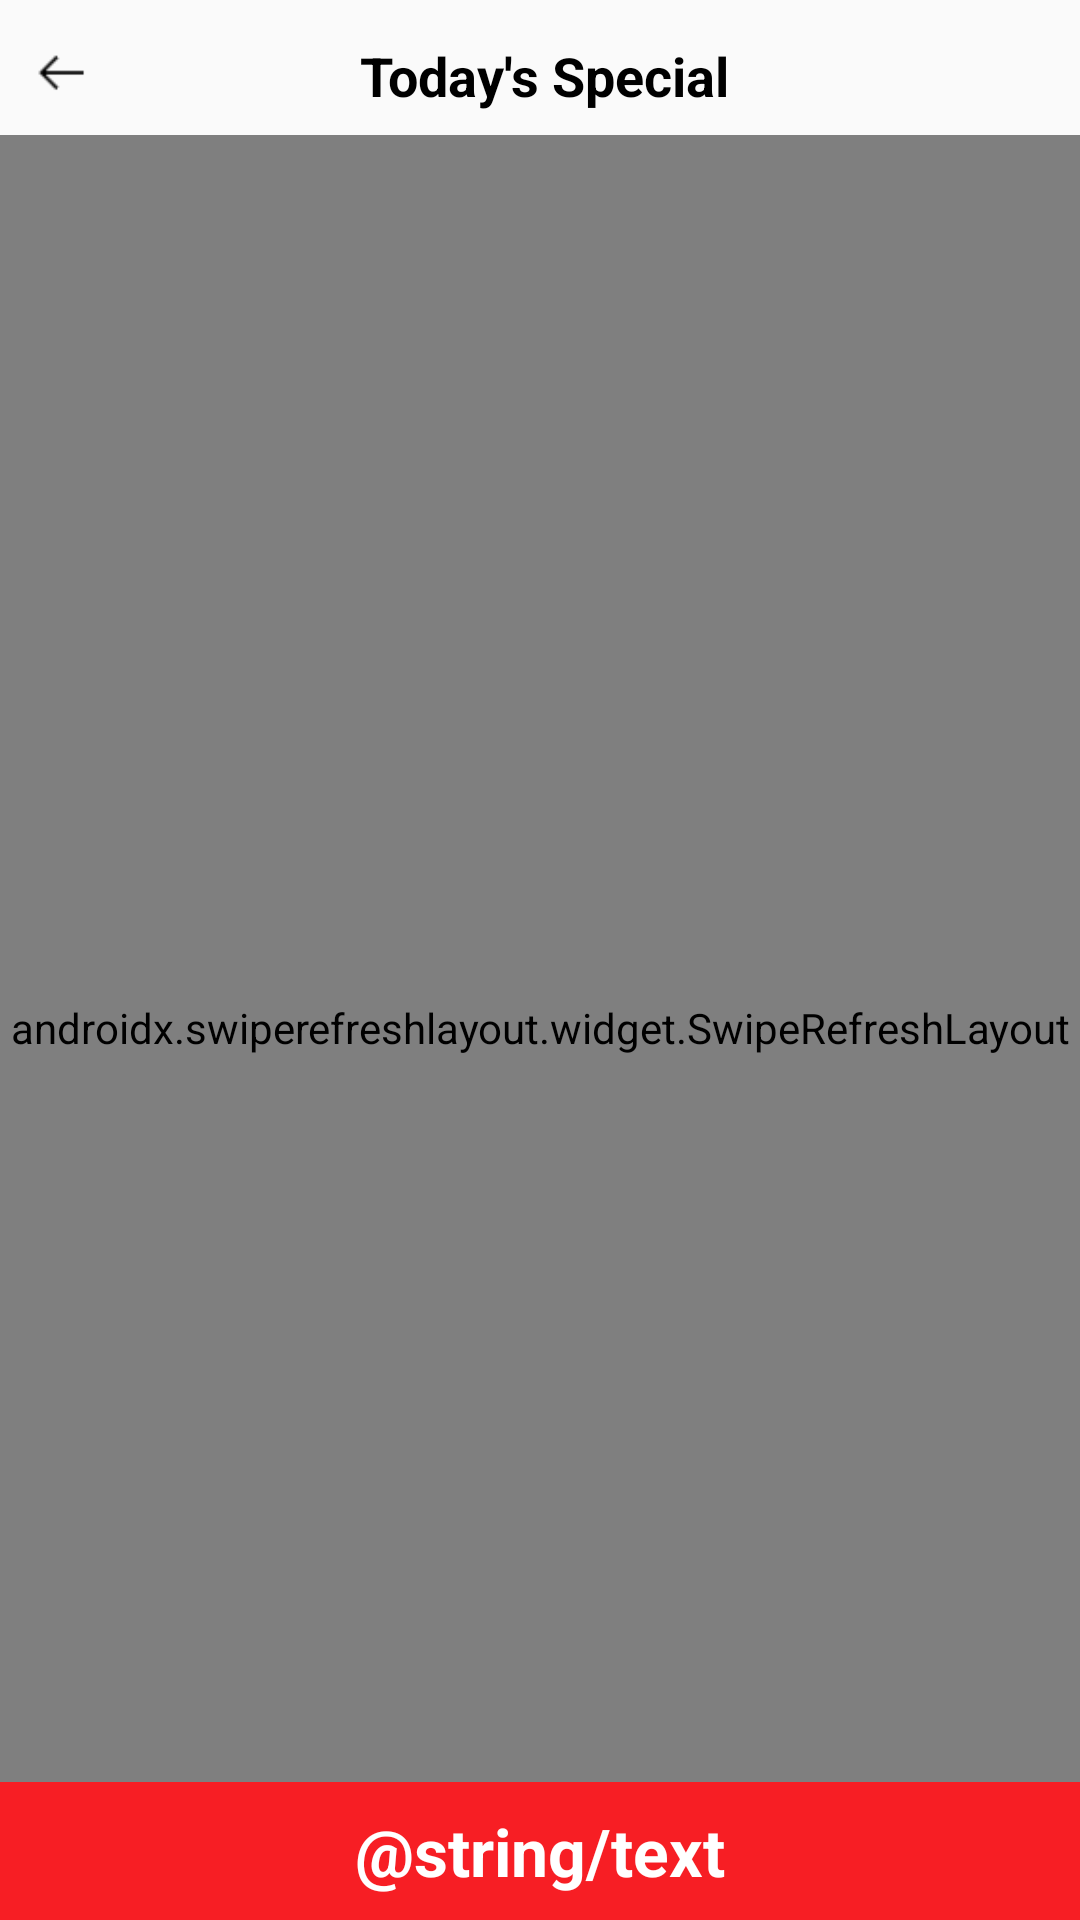

Locate icon controls on the screen. Image size 1080*1920, boxes as bbox=(x1, y1, x2, y2).
back: bbox=(38, 55, 84, 90)
